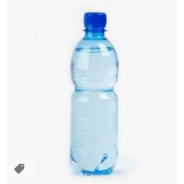Bottle: (72, 13, 118, 174)
